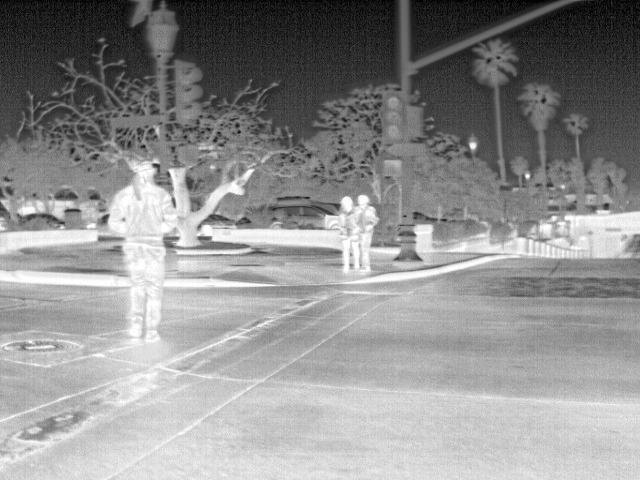car: (268, 206, 335, 223)
person: (103, 155, 177, 336), (335, 193, 362, 272), (357, 191, 379, 271)
